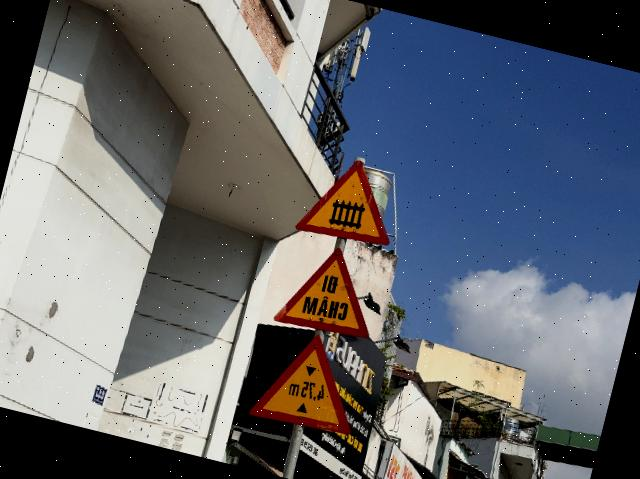chieu-cao-tinh-khong-thuc-te: (248, 323, 372, 440)
di-cham: (273, 236, 388, 344)
noi-giao-nhau-voi-duong-sat-co-rao-chan: (294, 148, 408, 252)
